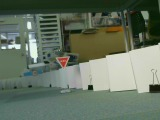stop: (54, 56, 71, 70)
